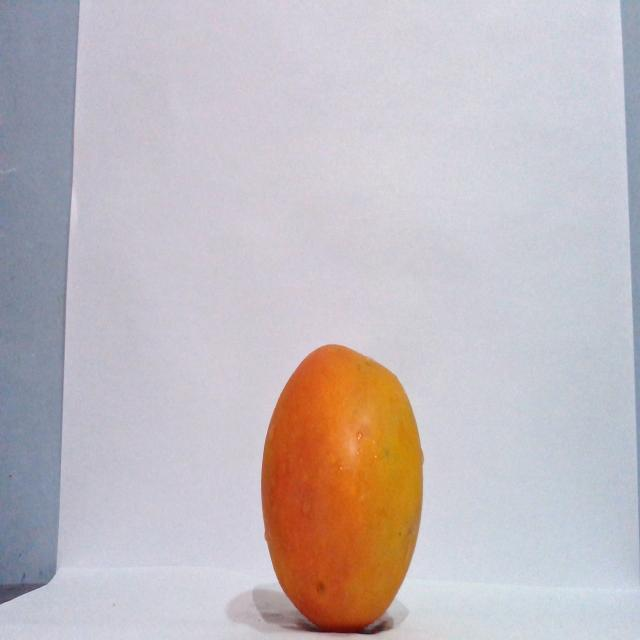Red: (259, 342, 424, 632)
